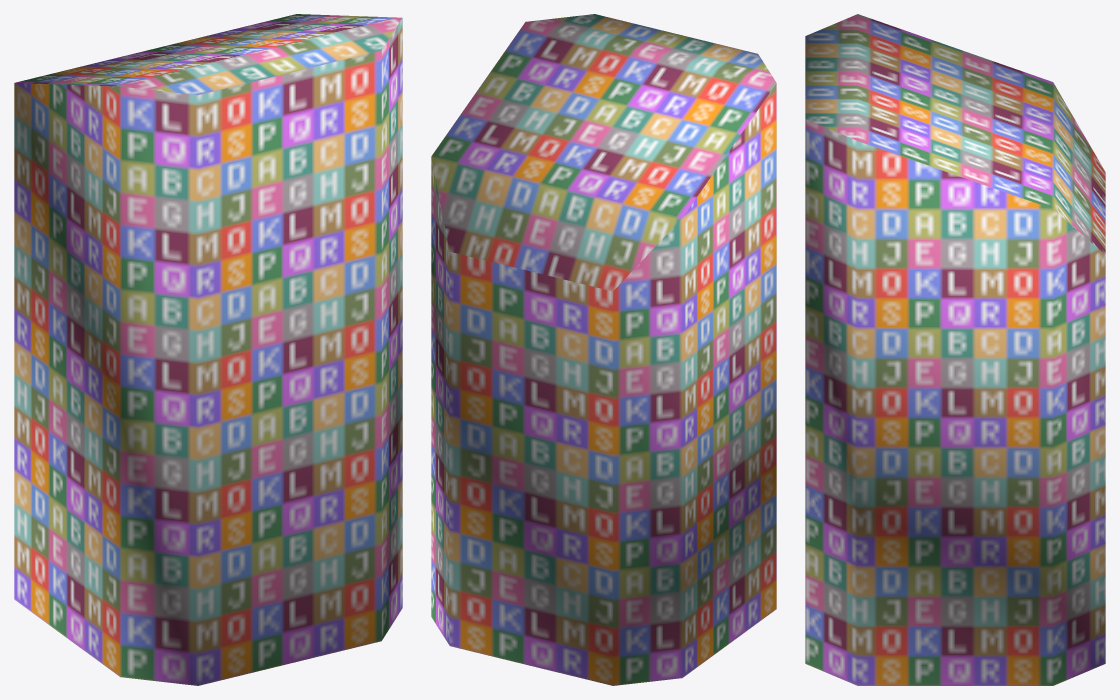
Rendered from pillar_broken.obj.
3 views of the same model, side by side, from view 1: azimuth 30°, elevation 25°; view 2: azimuth 150°, elevation 25°; view 3: azimuth 270°, elevation 25° (orthographic). The views are drawn at different scales.
Parts seen in each view (by area): view 1: cube1; view 2: cube1; view 3: cube1.
Part boxes in pixels (bbox=[...]): cube1: bbox=[14, 14, 402, 685]; cube1: bbox=[431, 14, 776, 685]; cube1: bbox=[805, 14, 1105, 685].
Bounding box in the file's own units: 2 × 4 × 2.
Materials: 1 (1 with a texture image).
